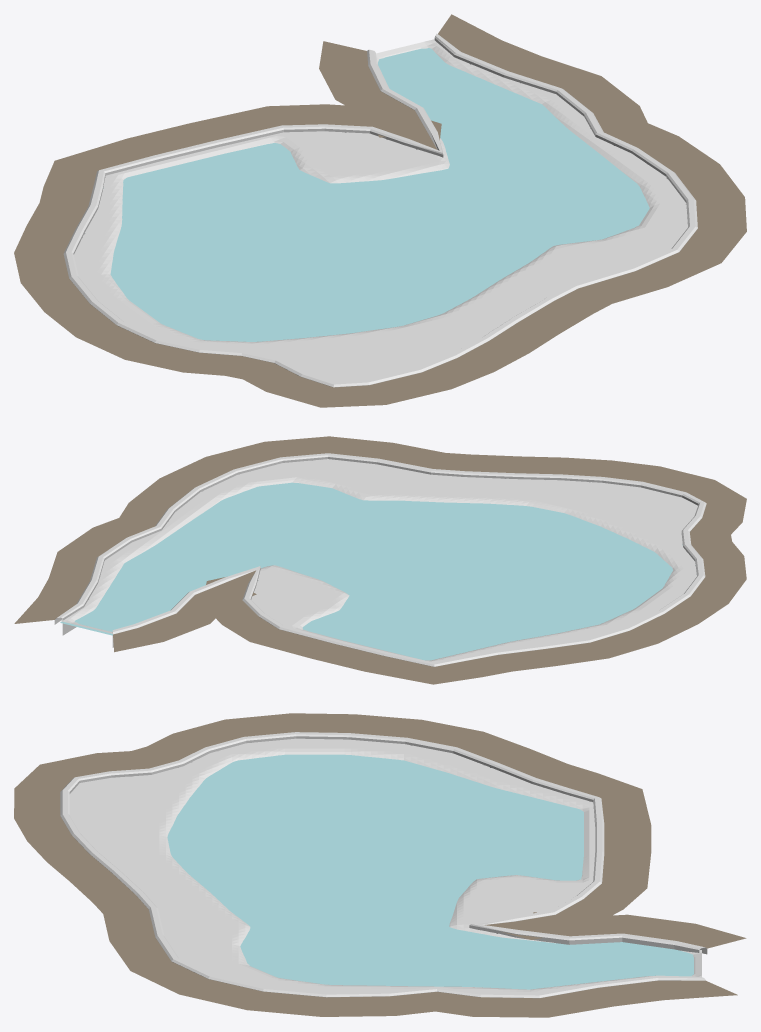
The model's file is AR_Archipel_bad.fbx.
3 views of the same model, one above another, from view 1: azimuth 30°, elevation 25°; view 2: azimuth 150°, elevation 25°; view 3: azimuth 270°, elevation 25° (orthographic). The views are drawn at different scales.
Parts seen in each view (by area): view 1: AR_water_0_bd, AR_aarde_0_bd, AR_beton_0_bd, AR_kade_0_bd; view 2: AR_water_0_bd, AR_aarde_0_bd, AR_beton_0_bd, AR_kade_0_bd; view 3: AR_water_0_bd, AR_aarde_0_bd, AR_beton_0_bd, AR_kade_0_bd.
Part boxes in pixels (box(x1,y1,x2,y2)): AR_water_0_bd: box(110, 48, 649, 341); AR_aarde_0_bd: box(14, 14, 746, 407); AR_beton_0_bd: box(73, 39, 687, 382); AR_kade_0_bd: box(63, 33, 697, 387); AR_water_0_bd: box(60, 482, 682, 660); AR_aarde_0_bd: box(14, 436, 746, 684); AR_beton_0_bd: box(60, 459, 697, 662); AR_kade_0_bd: box(54, 453, 706, 666); AR_water_0_bd: box(167, 754, 693, 989); AR_aarde_0_bd: box(14, 713, 746, 1017); AR_beton_0_bd: box(69, 738, 701, 993); AR_kade_0_bd: box(60, 732, 707, 998).
Bounding box in the file's own units: 32.65 × 2.38 × 33.22.
